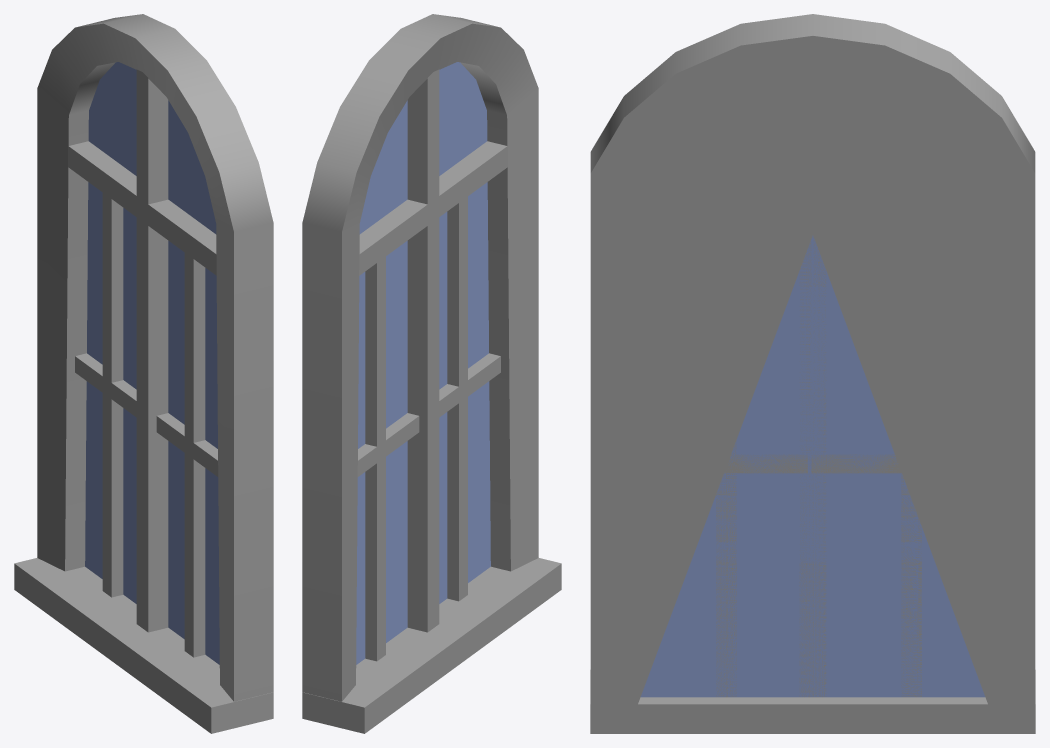
Rendered from Town_hall_Archwindow_Big.fbx.
The picture shows the model from 3 angles, left to right: view 1: azimuth 30°, elevation 25°; view 2: azimuth 150°, elevation 25°; view 3: azimuth 270°, elevation 25°; orthographic projection. The views are drawn at different scales.
Visible parts, largest first — view 1: Town_hall_Archwindow_Big; view 2: Town_hall_Archwindow_Big; view 3: Town_hall_Archwindow_Big.
Part boxes in pixels (box(x1,y1,x2,y2)): Town_hall_Archwindow_Big: box(14, 14, 273, 733); Town_hall_Archwindow_Big: box(302, 14, 561, 733); Town_hall_Archwindow_Big: box(590, 14, 1035, 733).
Size of the model in its own units: 22.94 by 217 by 125.
